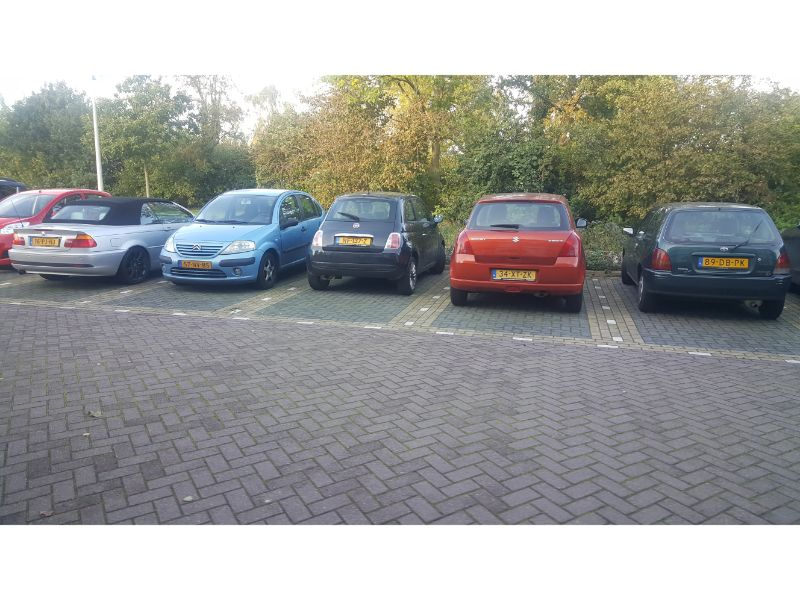kenteken: (702, 254, 748, 272), (496, 266, 538, 282), (178, 258, 212, 270), (338, 235, 371, 245)
